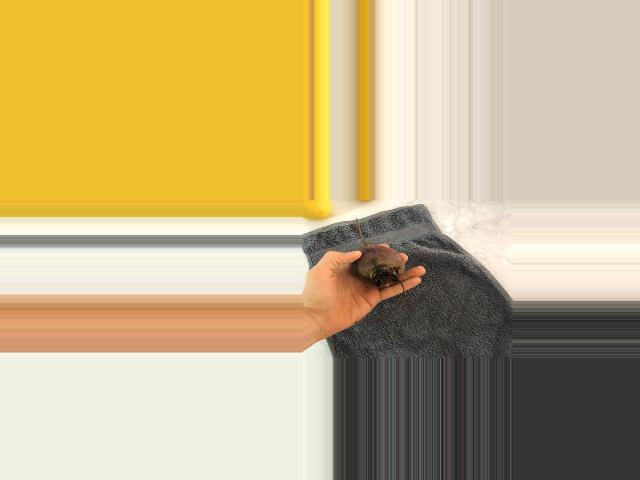beet: (349, 218, 404, 288)
